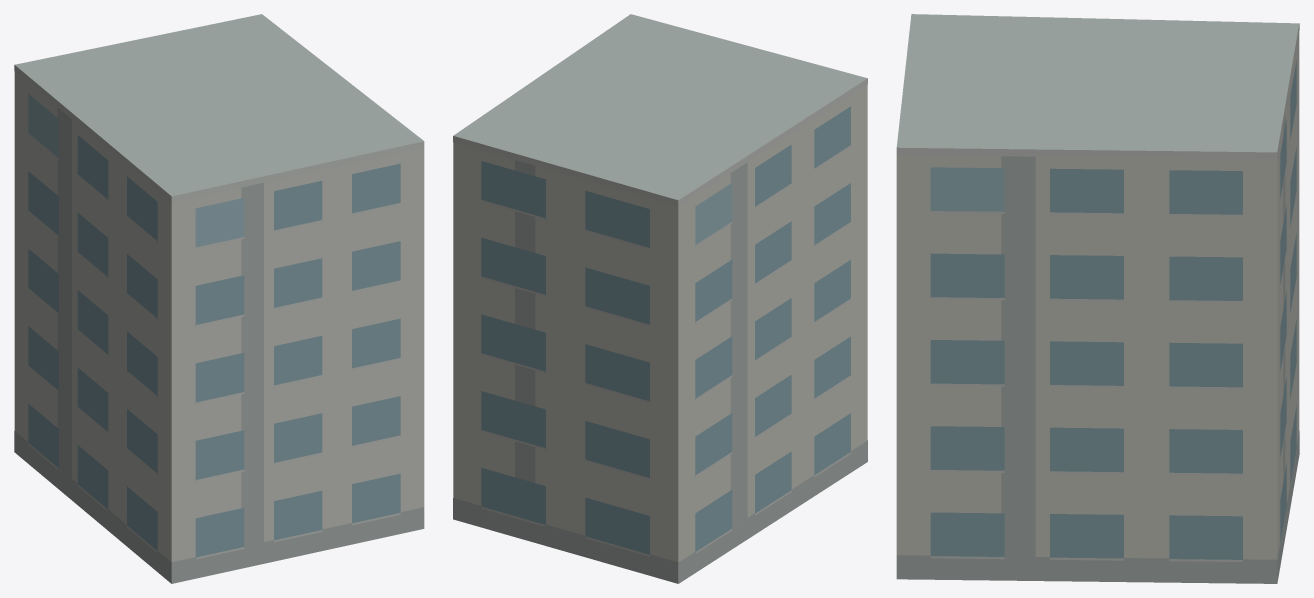
Rendered from survey-upis-32834858.glb.
3 renders of one model, left to right at view 1: azimuth 30°, elevation 25°; view 2: azimuth 150°, elevation 25°; view 3: azimuth 270°, elevation 25°, orthographic. The views are drawn at different scales.
Visible parts, largest first — view 1: survey-upis-32834858.tmp; view 2: survey-upis-32834858.tmp; view 3: survey-upis-32834858.tmp.
Part boxes in pixels (x1,y1,x2,y2): survey-upis-32834858.tmp: (14,14,424,583); survey-upis-32834858.tmp: (453,14,867,583); survey-upis-32834858.tmp: (896,14,1299,583).
Size of the model in its own units: 10.05 by 14.6 by 12.36.
